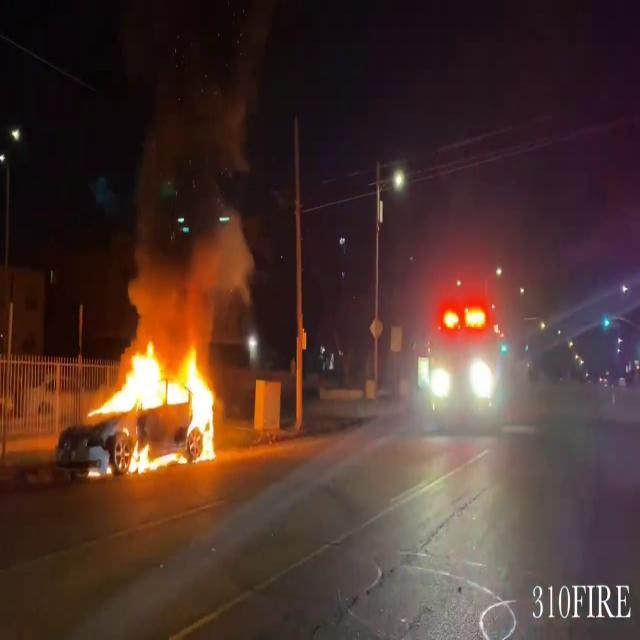Fire: (92, 332, 224, 472)
Smoke: (120, 11, 266, 337)
